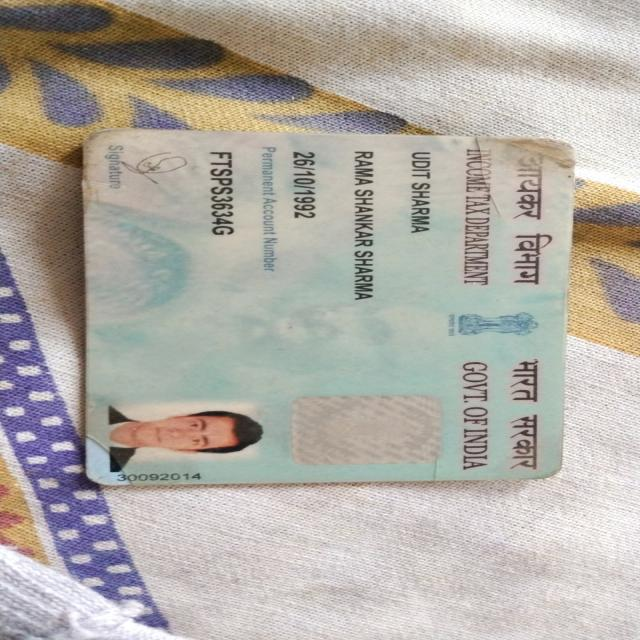pan_card: (76, 130, 578, 485)
